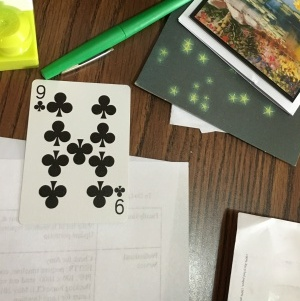card: (21, 78, 131, 223)
